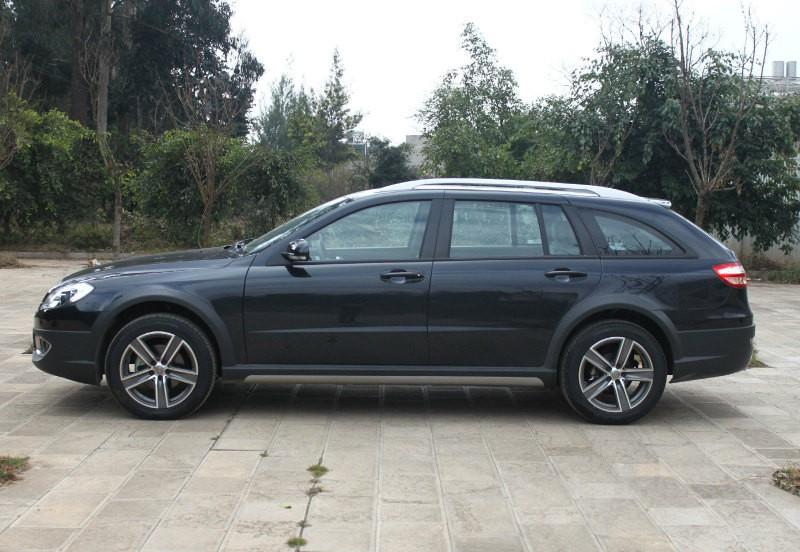Wagon: (33, 176, 757, 426)
